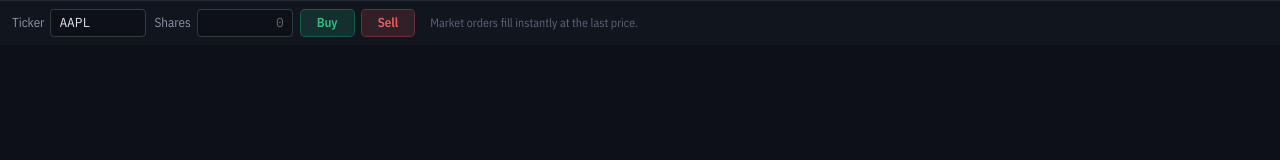
Scenario: TradeBar › submits a buy and confirms the fill
Type "2" into the field with test id "trade-quantity". click: (245, 23)
box: [197, 9, 293, 37]
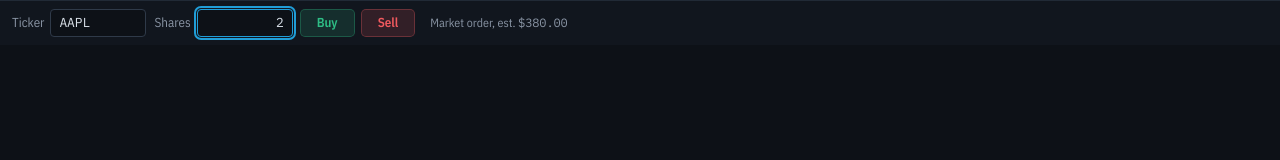
Expected: the text "Market order, est. $380.00" is shown, [430, 15, 568, 30]
Click the button with test id "trade-buy". click: (327, 23)
box: [301, 10, 354, 36]
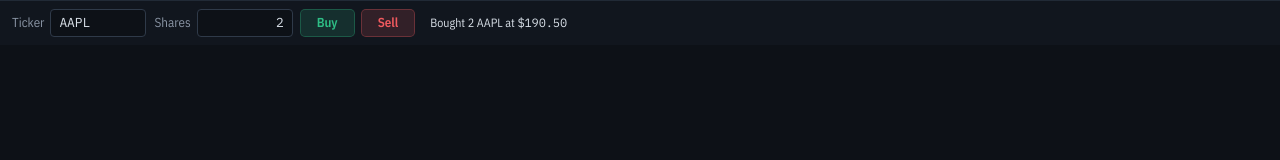
Expected: the text "Bought 2 AAPL at $190.50" is shown, [430, 15, 567, 30]
